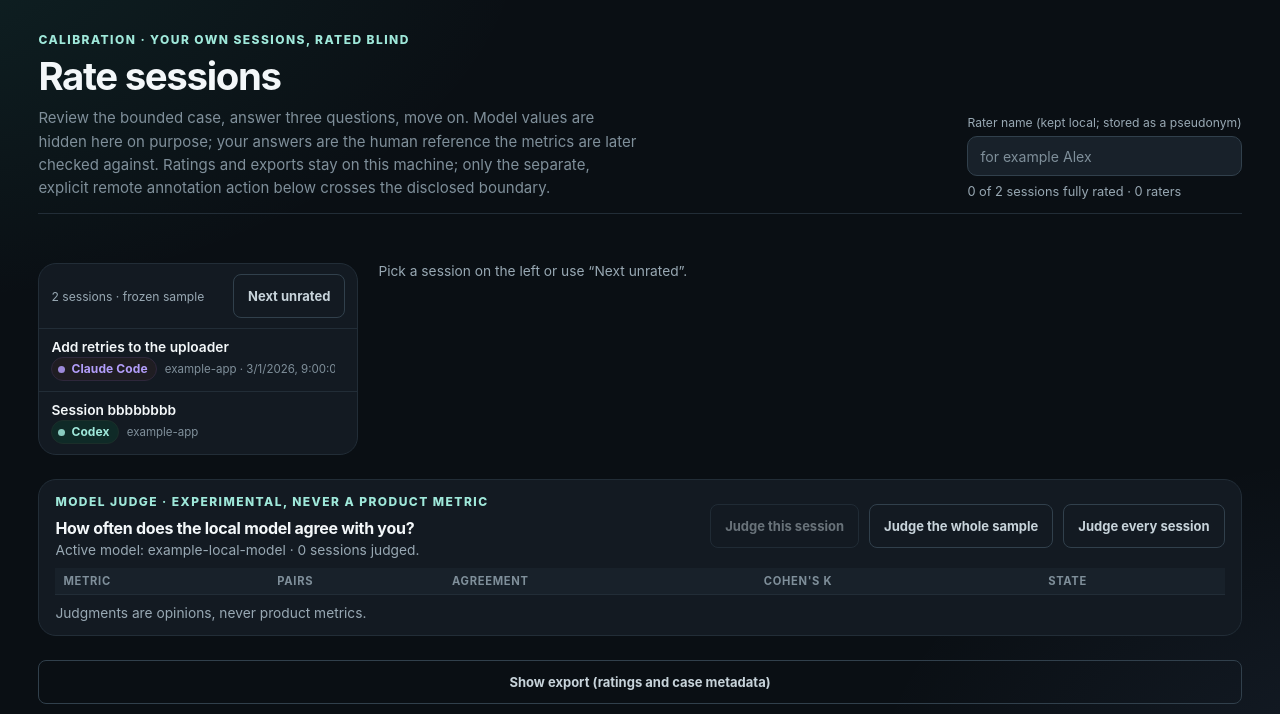
Test: CalibrationPage › uses the safe model-state reason for Judge this session, not the private error message
Click the button "Next unrated": (289,296) x1=233 y1=274 x2=345 y2=318
(page scrolled)
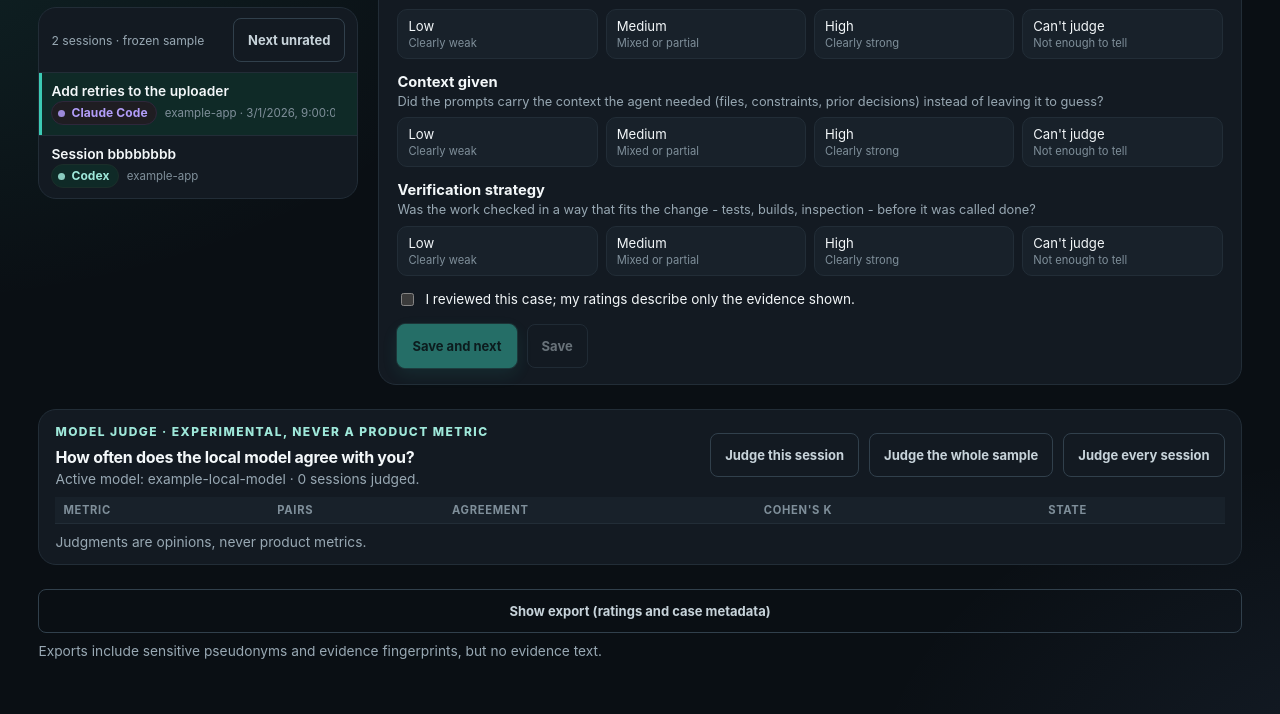
Click the button "Judge this session": (785,455) x1=710 y1=433 x2=859 y2=477
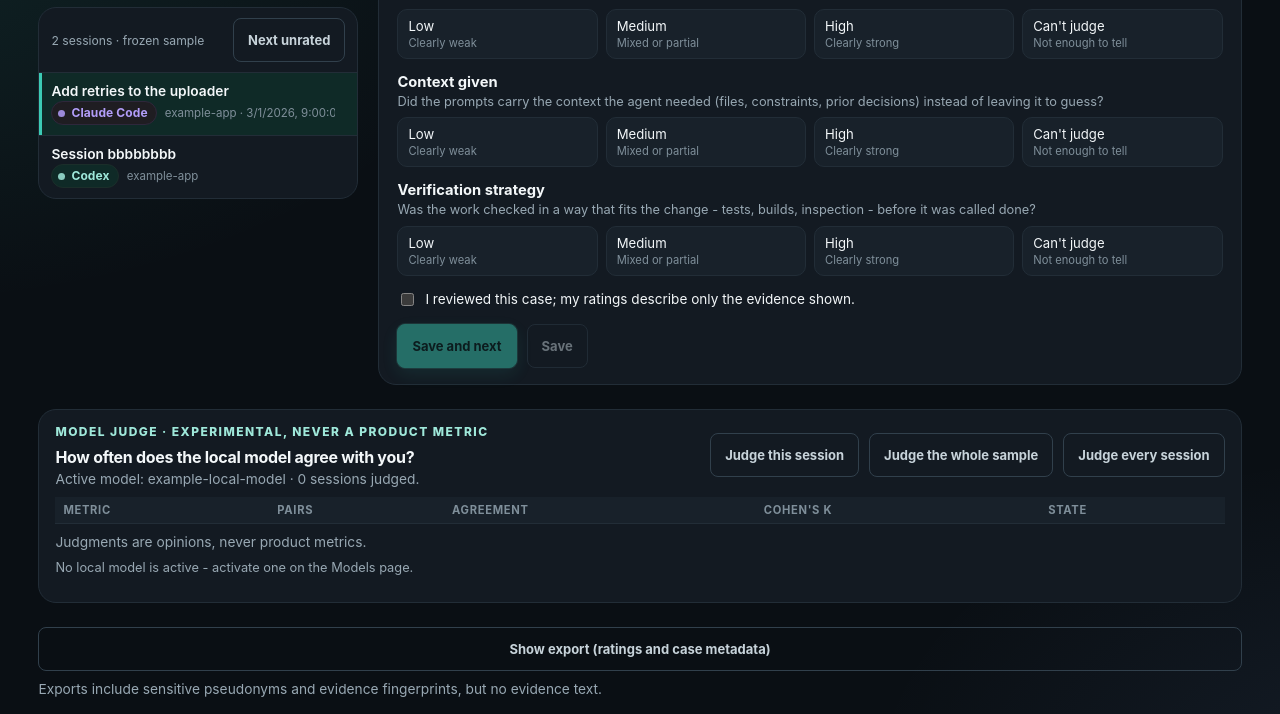
Check: the text "No local model is active - activate one on the Models page." is shown, box x1=55 y1=560 x2=413 y2=575
